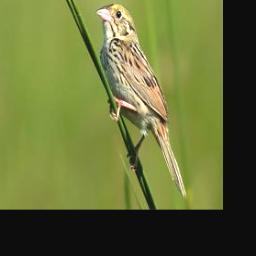Sparrow: (95, 2, 188, 203)
